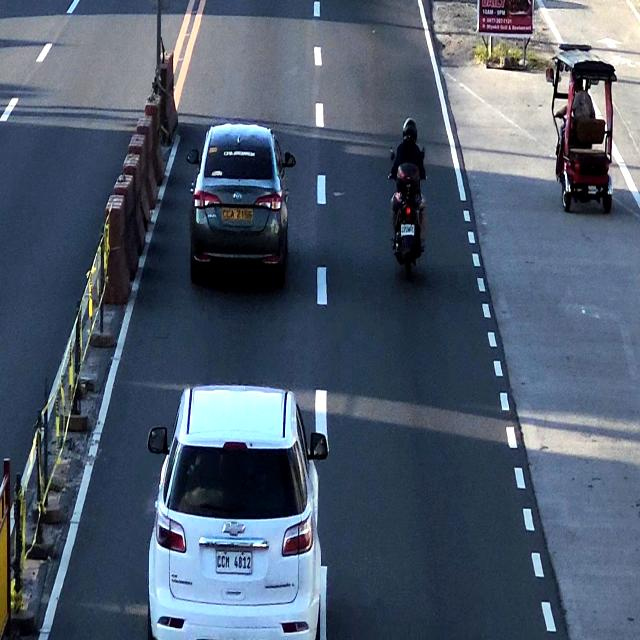Car: (152, 386, 320, 640), (188, 120, 288, 284)
License-Plate: (213, 539, 253, 579), (220, 206, 253, 226), (399, 223, 417, 240)
Motorcycle: (388, 117, 423, 267)
